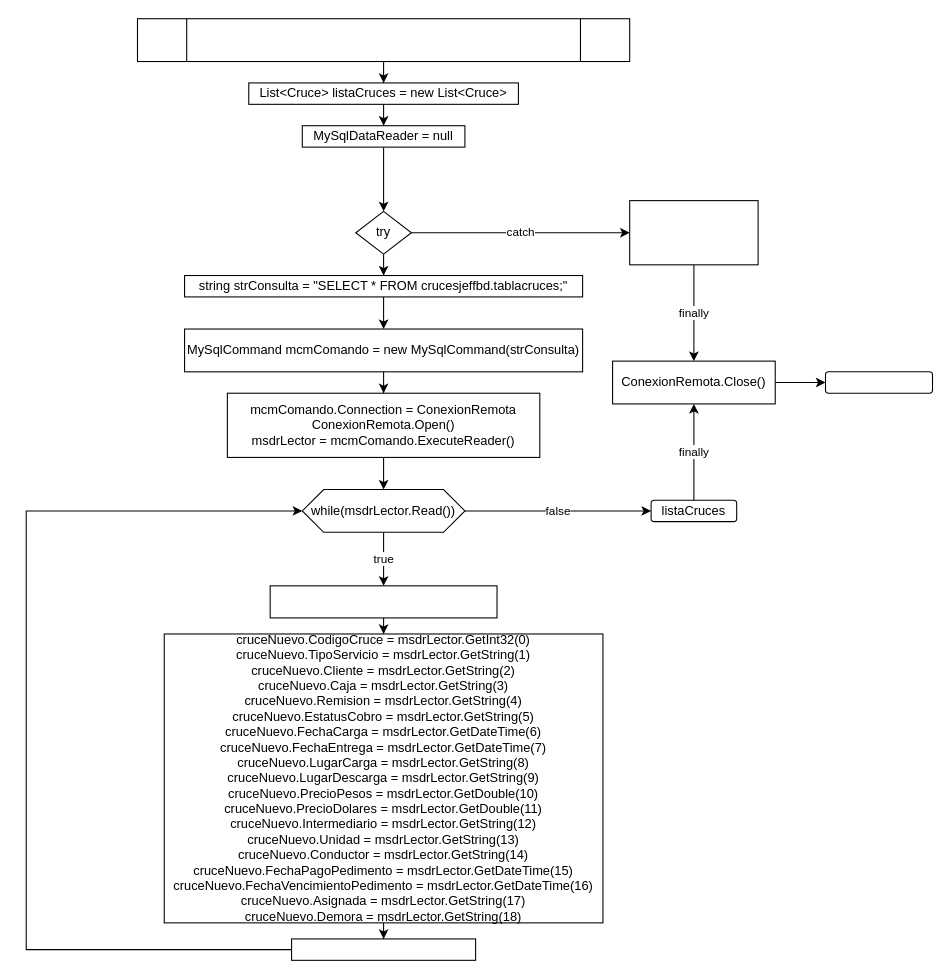
This 951x979 diagram has some shape labels left out. Here are the shapes that lost their labels. From the top down, the centre of each, then its label:
the point at 383,40: ConexionBDJeff.ObtenerListaCruces(delegMensajeExcepcionador dele) : List<Cruce>
the point at 693,232: dele(mex.Message)
the point at 878,382: return listaCruces
the point at 383,601: Cruce cruceNuevo = new Cruce()
the point at 383,949: listaCruces.Add(cruceNuevo)
